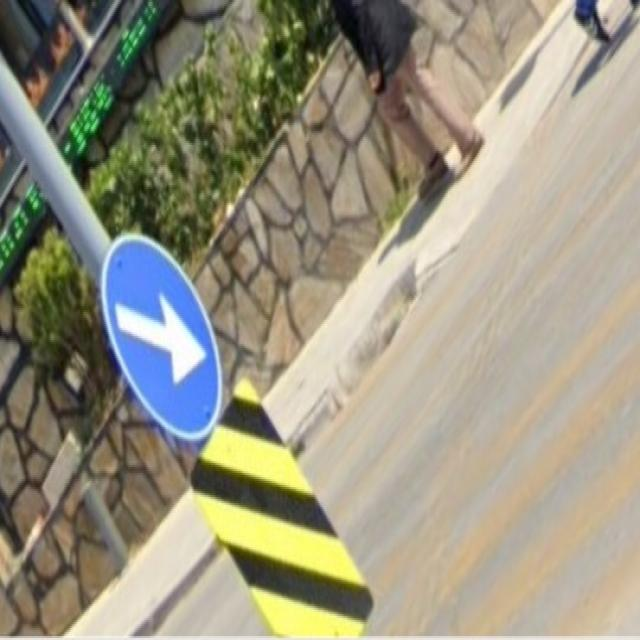Turn Right: (104, 242, 232, 450)
